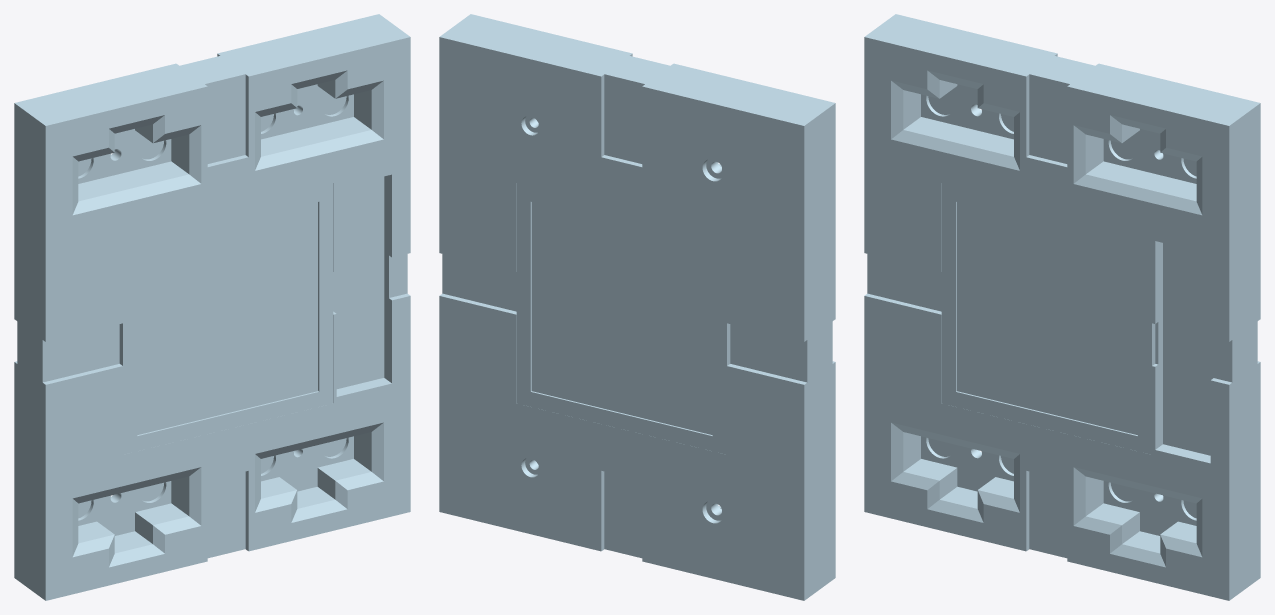
File: BaseBoardOriginMoved.glb
The picture shows the model from 3 angles, left to right: view 1: azimuth 30°, elevation 25°; view 2: azimuth 150°, elevation 25°; view 3: azimuth 330°, elevation 25°; orthographic projection.
Visible parts, largest first — view 1: Part 2; view 2: Part 2; view 3: Part 2.
Boxes of the visible parts, x1,y1,x2,y2 form: Part 2: (14, 14, 410, 600); Part 2: (439, 14, 835, 600); Part 2: (864, 14, 1260, 600).
Bounding box in the file's own units: 0.201 × 0.25 × 0.03.
